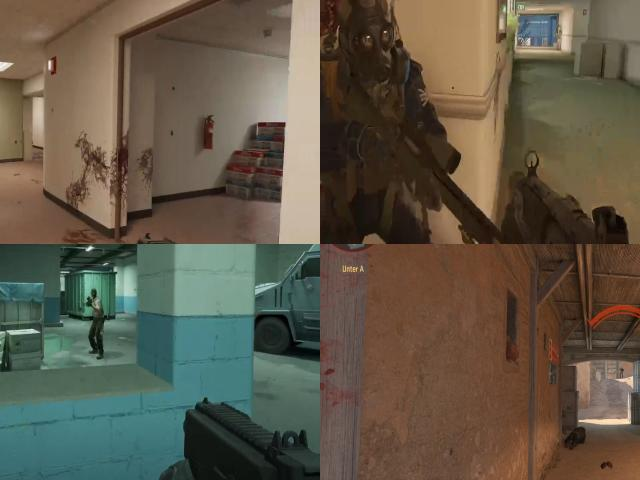CT: (320, 0, 439, 242), (620, 365, 623, 378)
CT-Head: (333, 0, 400, 96), (620, 366, 622, 367)
Dead: (565, 426, 588, 450)
T: (87, 292, 105, 326)
T-Head: (88, 287, 100, 302)
